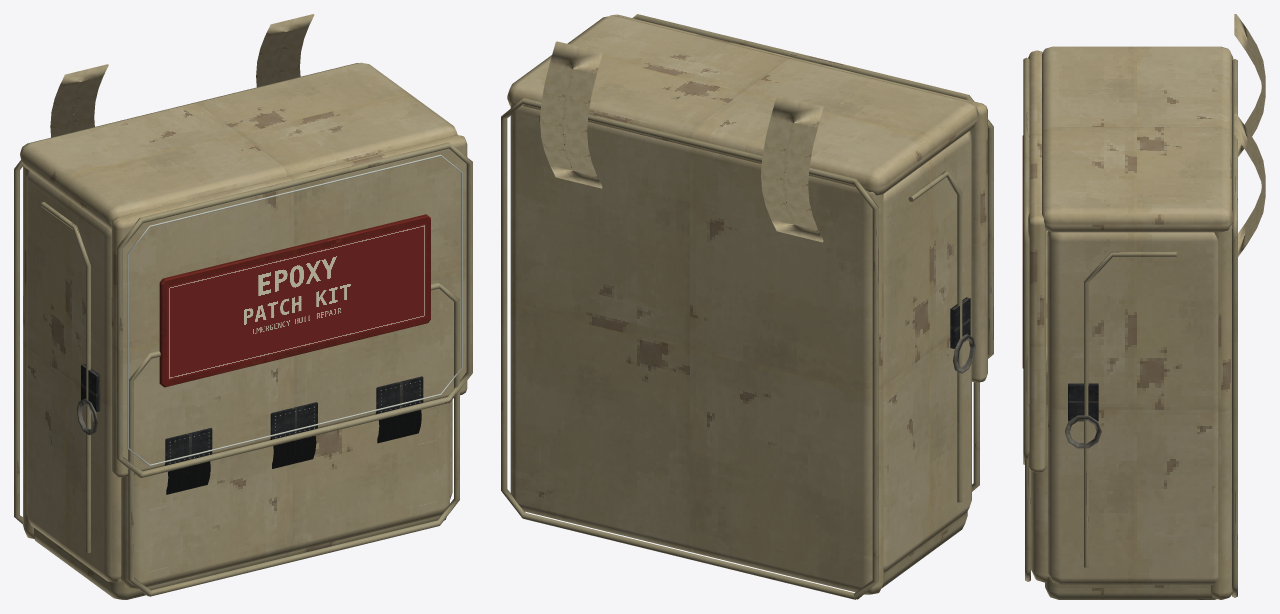
File: Epoxy_Patch_Bag.glb
3 views of the same model, side by side, from view 1: azimuth 30°, elevation 25°; view 2: azimuth 150°, elevation 25°; view 3: azimuth 270°, elevation 25° (orthographic). The views are drawn at different scales.
Parts seen in each view (by area): view 1: Flap_Front, Flap_Top, Bag_Front_Lower, Bag_Side_-0.119, Bag_Label, Flap_Edge_Binding, Bag_Label_Red_Backing, Bag_Front_Binding, Bag_Bottom, Rear_Mount_Webbing_-1, Rear_Mount_Webbing_1, Flap_Stitched_Seam (+10 smaller); view 2: Bag_Back, Flap_Top, Bag_Side_-0.119, Bag_Back_Binding, Rear_Mount_Webbing_-1, Rear_Mount_Webbing_1, Flap_Front, Flap_Edge_Binding, Side_Zipper_-1, Bag_Bottom, Bag_Front_Binding, Side_Pull_Anchor_-1; view 3: Bag_Side_0.119, Flap_Top, Flap_Front, Bag_Back, Bag_Back_Binding, Flap_Edge_Binding, Bag_Bottom, Bag_Front_Lower, Side_Zipper_1, Rear_Mount_Webbing_1, Rear_Mount_Webbing_-1, Side_Pull_Anchor_1 (+3 smaller).
Part boxes in pixels (left/top/right/bottom): Flap_Front: left=111, top=135, right=467, bottom=477; Flap_Top: left=20, top=62, right=457, bottom=229; Bag_Front_Lower: left=120, top=403, right=449, bottom=588; Bag_Side_-0.119: left=26, top=171, right=121, bottom=582; Bag_Label: left=167, top=223, right=426, bottom=380; Flap_Edge_Binding: left=117, top=142, right=472, bottom=477; Bag_Label_Red_Backing: left=159, top=214, right=430, bottom=387; Bag_Front_Binding: left=128, top=282, right=459, bottom=596; Bag_Bottom: left=33, top=515, right=446, bottom=599; Rear_Mount_Webbing_-1: left=50, top=64, right=108, bottom=137; Rear_Mount_Webbing_1: left=256, top=14, right=314, bottom=87; Flap_Stitched_Seam: left=127, top=154, right=462, bottom=466; Bag_Back: left=510, top=104, right=884, bottom=594; Flap_Top: left=507, top=15, right=978, bottom=195; Bag_Side_-0.119: left=883, top=131, right=971, bottom=572; Bag_Back_Binding: left=501, top=98, right=878, bottom=599; Rear_Mount_Webbing_-1: left=761, top=95, right=823, bottom=242; Rear_Mount_Webbing_1: left=540, top=41, right=602, bottom=188; Flap_Front: left=610, top=14, right=987, bottom=382; Flap_Edge_Binding: left=632, top=14, right=993, bottom=358; Side_Zipper_-1: left=908, top=171, right=962, bottom=502; Bag_Bottom: left=881, top=512, right=967, bottom=588; Bag_Front_Binding: left=972, top=382, right=979, bottom=491; Side_Pull_Anchor_-1: left=950, top=297, right=970, bottom=348; Bag_Side_0.119: left=1047, top=231, right=1218, bottom=584; Flap_Top: left=1042, top=46, right=1233, bottom=232; Flap_Front: left=1028, top=50, right=1046, bottom=472; Bag_Back: left=1211, top=224, right=1232, bottom=599; Bag_Back_Binding: left=1232, top=59, right=1237, bottom=597; Flap_Edge_Binding: left=1023, top=57, right=1029, bottom=464; Bag_Bottom: left=1045, top=576, right=1216, bottom=599; Bag_Front_Lower: left=1031, top=230, right=1048, bottom=582; Side_Zipper_1: left=1084, top=251, right=1176, bottom=567; Rear_Mount_Webbing_1: left=1234, top=113, right=1265, bottom=256; Rear_Mount_Webbing_-1: left=1234, top=14, right=1265, bottom=156; Side_Pull_Anchor_1: left=1068, top=383, right=1098, bottom=421.
Bounding box in the file's own units: 0.27 × 0.3235 × 0.1587.
Materials: 12 (11 with a texture image).
